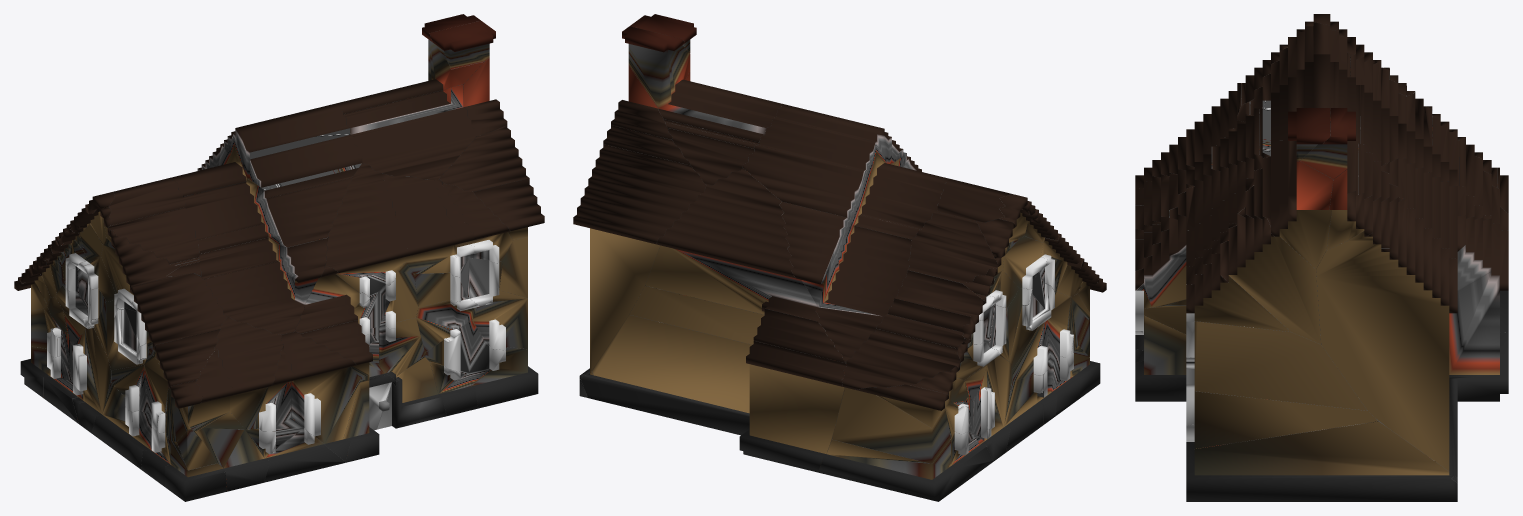
The model's file is house-1_cell.fbx.
The picture shows the model from 3 angles, left to right: view 1: azimuth 30°, elevation 25°; view 2: azimuth 150°, elevation 25°; view 3: azimuth 270°, elevation 25°; orthographic projection. The views are drawn at different scales.
Visible parts, largest first — view 1: ObjObject_cell.029, ObjObject_cell.080, ObjObject_cell.054, ObjObject_cell.086, ObjObject_cell.020, ObjObject_cell.022, ObjObject_cell.002, ObjObject_cell.009, ObjObject_cell.083, ObjObject_cell.052, ObjObject_cell.019, ObjObject_cell.030 (+51 smaller); view 2: ObjObject_cell, ObjObject_cell.098, ObjObject_cell.067, ObjObject_cell.069, ObjObject_cell.099, ObjObject_cell.014, ObjObject_cell.001, ObjObject_cell.096, ObjObject_cell.084, ObjObject_cell.037, ObjObject_cell.040, ObjObject_cell.016 (+34 smaller); view 3: ObjObject_cell.067, ObjObject_cell.062, ObjObject_cell.053, ObjObject_cell, ObjObject_cell.019, ObjObject_cell.041, ObjObject_cell.011, ObjObject_cell.029, ObjObject_cell.098, ObjObject_cell.060, ObjObject_cell.087, ObjObject_cell.097 (+31 smaller).
Part boxes in pixels (bbox=[...]): ObjObject_cell.029: bbox=[343, 84, 475, 179]; ObjObject_cell.080: bbox=[325, 163, 408, 297]; ObjObject_cell.054: bbox=[204, 237, 328, 334]; ObjObject_cell.086: bbox=[281, 331, 360, 460]; ObjObject_cell.020: bbox=[130, 273, 227, 356]; ObjObject_cell.022: bbox=[382, 173, 457, 276]; ObjObject_cell.002: bbox=[198, 178, 351, 253]; ObjObject_cell.009: bbox=[183, 163, 361, 239]; ObjObject_cell.083: bbox=[215, 316, 283, 428]; ObjObject_cell.052: bbox=[233, 104, 350, 179]; ObjObject_cell.019: bbox=[439, 125, 529, 191]; ObjObject_cell.030: bbox=[250, 135, 362, 187]; ObjObject_cell: bbox=[581, 315, 846, 472]; ObjObject_cell.098: bbox=[645, 168, 819, 321]; ObjObject_cell.067: bbox=[573, 144, 707, 370]; ObjObject_cell.069: bbox=[779, 202, 911, 362]; ObjObject_cell.099: bbox=[622, 26, 783, 141]; ObjObject_cell.014: bbox=[629, 286, 845, 363]; ObjObject_cell.001: bbox=[743, 145, 919, 239]; ObjObject_cell.096: bbox=[832, 387, 953, 463]; ObjObject_cell.084: bbox=[819, 439, 957, 501]; ObjObject_cell.037: bbox=[908, 212, 998, 284]; ObjObject_cell.040: bbox=[842, 332, 960, 389]; ObjObject_cell.016: bbox=[860, 154, 949, 229]; ObjObject_cell.067: bbox=[1316, 197, 1457, 470]; ObjObject_cell.062: bbox=[1186, 420, 1457, 501]; ObjObject_cell.053: bbox=[1194, 321, 1367, 410]; ObjObject_cell: bbox=[1449, 223, 1508, 477]; ObjObject_cell.019: bbox=[1220, 214, 1321, 344]; ObjObject_cell.041: bbox=[1186, 357, 1378, 448]; ObjObject_cell.011: bbox=[1268, 161, 1333, 268]; ObjObject_cell.029: bbox=[1238, 140, 1403, 219]; ObjObject_cell.098: bbox=[1381, 158, 1465, 258]; ObjObject_cell.060: bbox=[1186, 253, 1290, 331]; ObjObject_cell.087: bbox=[1135, 315, 1186, 401]; ObjObject_cell.097: bbox=[1135, 229, 1186, 308].
Size of the model in its own units: 600 by 480 by 440.
1 material, 1 textured.
